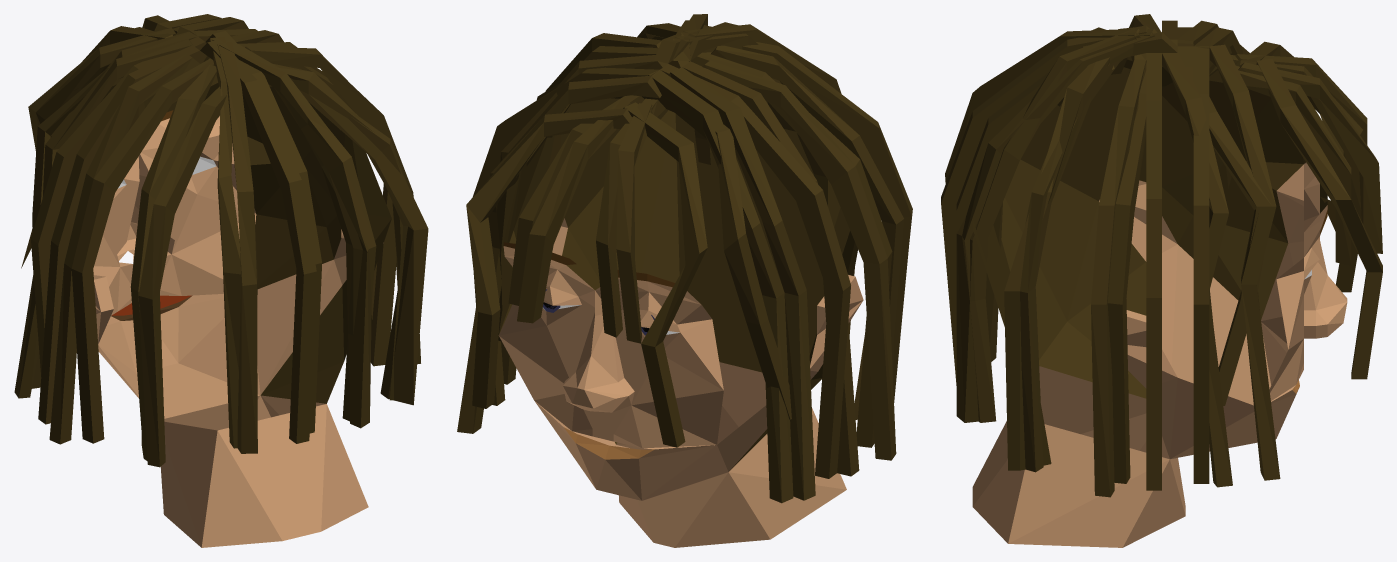
3 renders of one model, left to right at view 1: azimuth 30°, elevation 25°; view 2: azimuth 150°, elevation 25°; view 3: azimuth 270°, elevation 25°, orthographic. The views are drawn at different scales.
Size of the model in its own units: 0.875 by 1.05 by 0.875.
